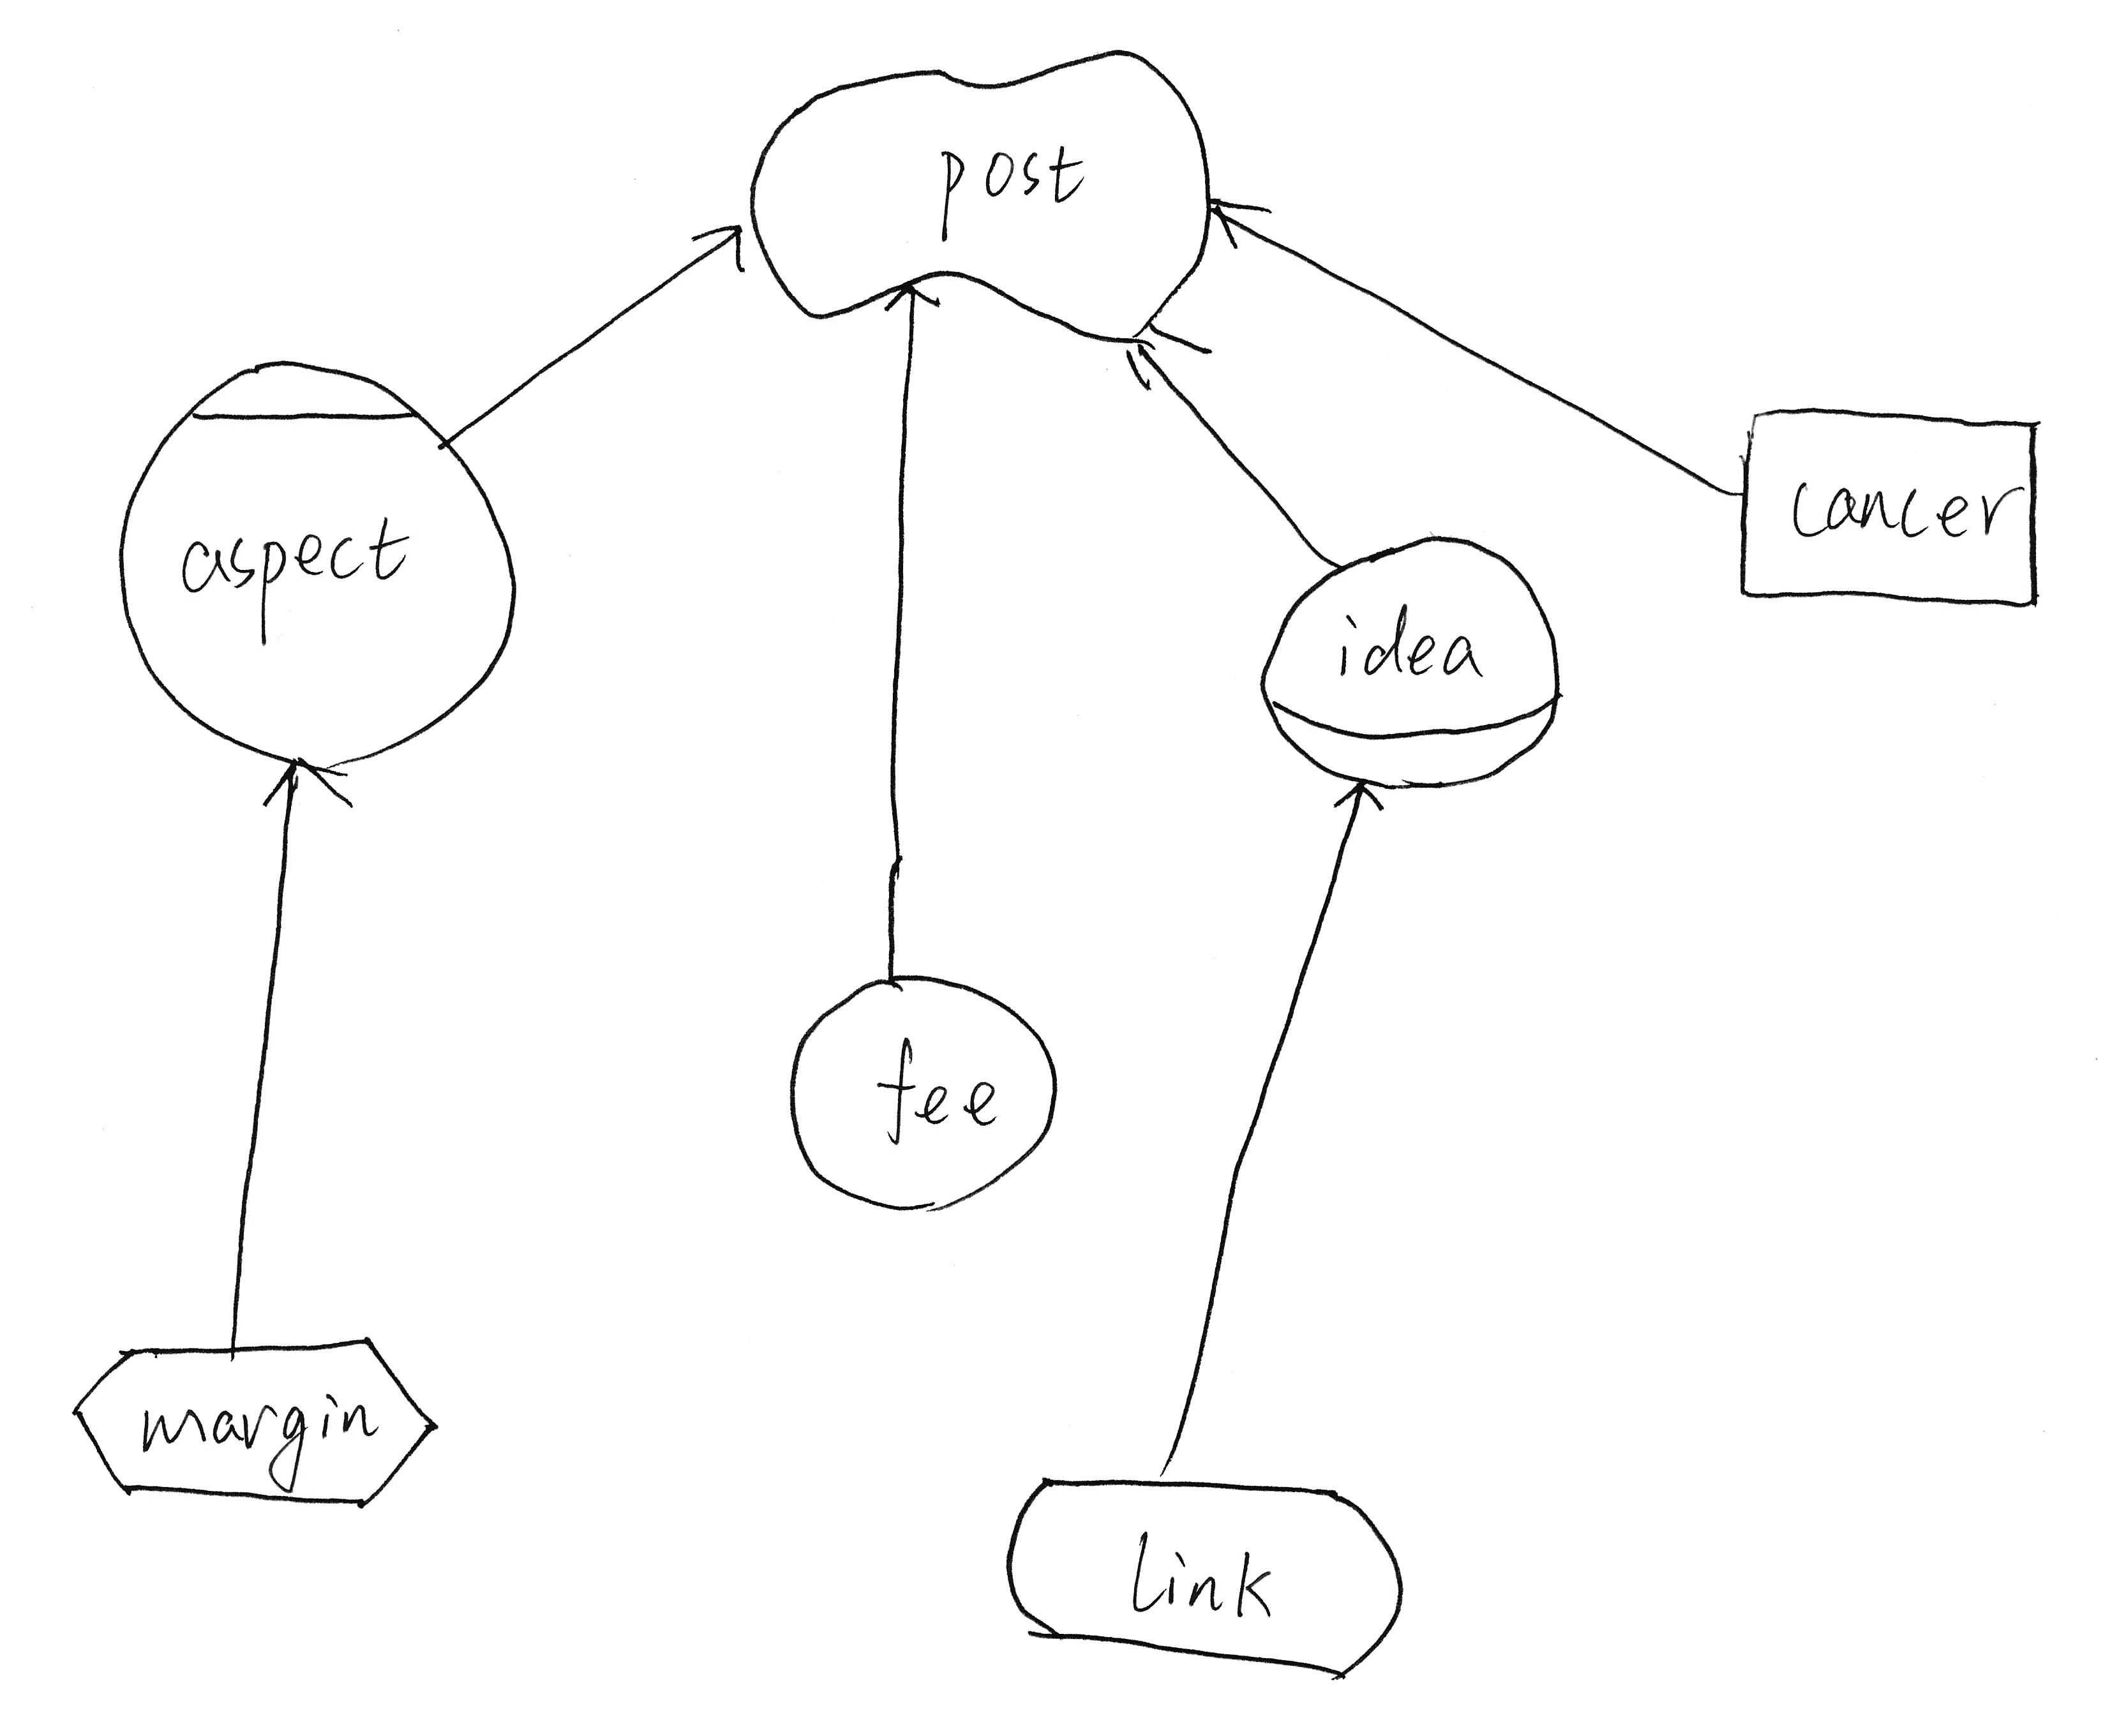actor: (773, 960, 1073, 1228)
agent: (96, 336, 533, 783)
arrow: (1106, 314, 1218, 399), (258, 752, 366, 823), (1200, 182, 1283, 270), (676, 207, 754, 296), (1320, 766, 1395, 834), (880, 273, 946, 329)
goal: (987, 1452, 1421, 1697)
quality: (736, 26, 1230, 361)
resource: (1721, 385, 2066, 634)
role: (1239, 520, 1579, 806)
task: (60, 1319, 456, 1535)
